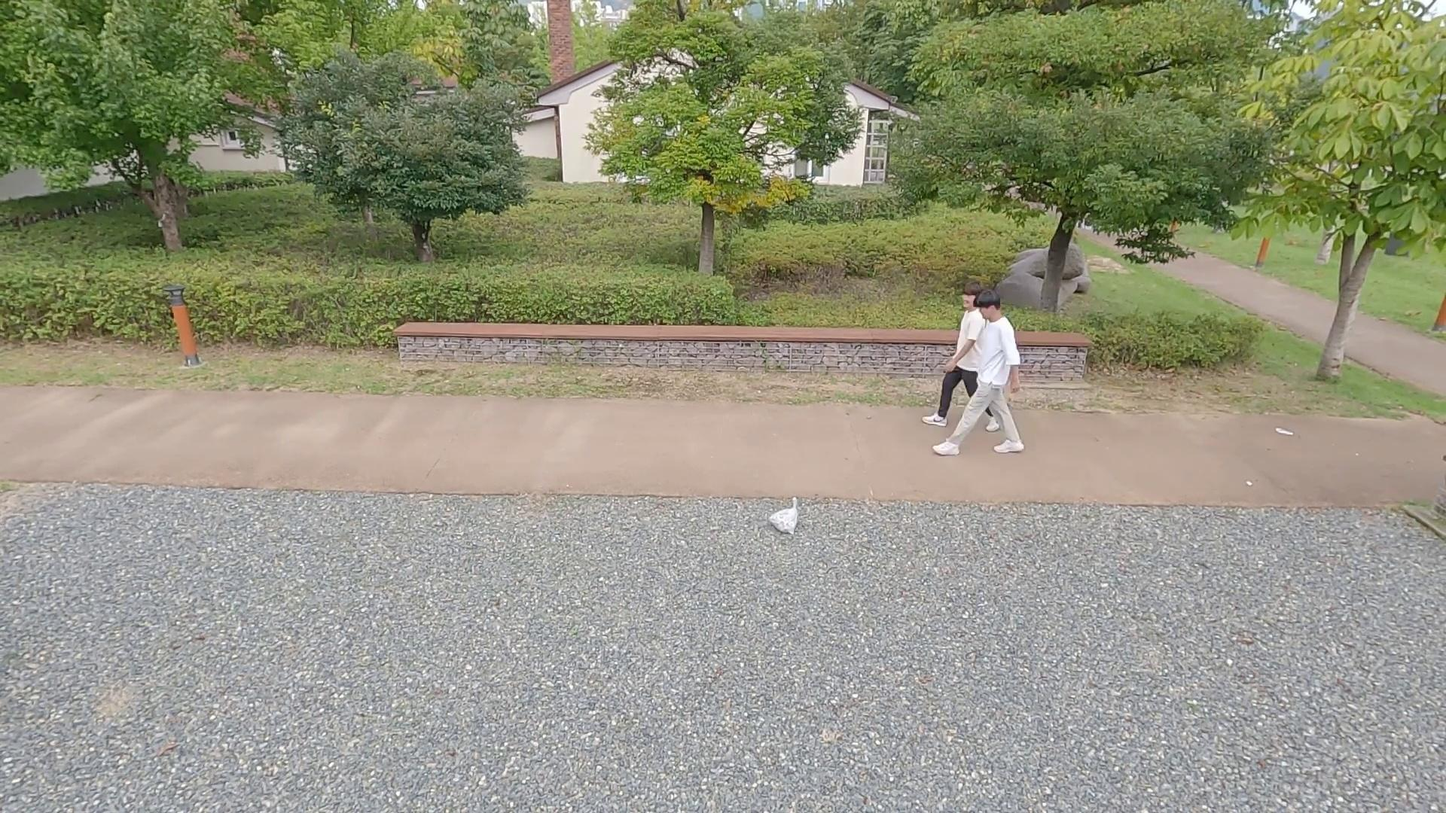person: (932, 285, 1028, 459), (917, 278, 1002, 433)
trash: (763, 492, 805, 545)
